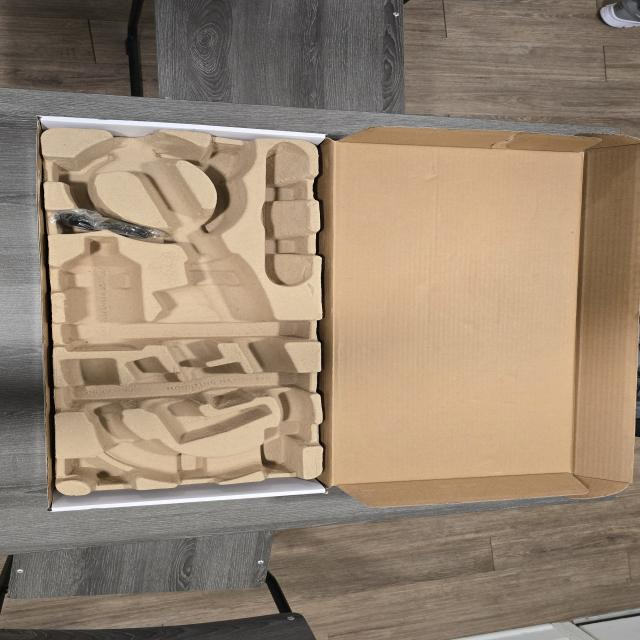1m: (63, 135, 312, 482)
2m: (131, 359, 274, 443)
3m: (65, 239, 141, 350)
4m: (262, 143, 312, 286)
5m: (203, 150, 248, 179)
6m: (58, 154, 114, 185)
7: (46, 209, 160, 240)
